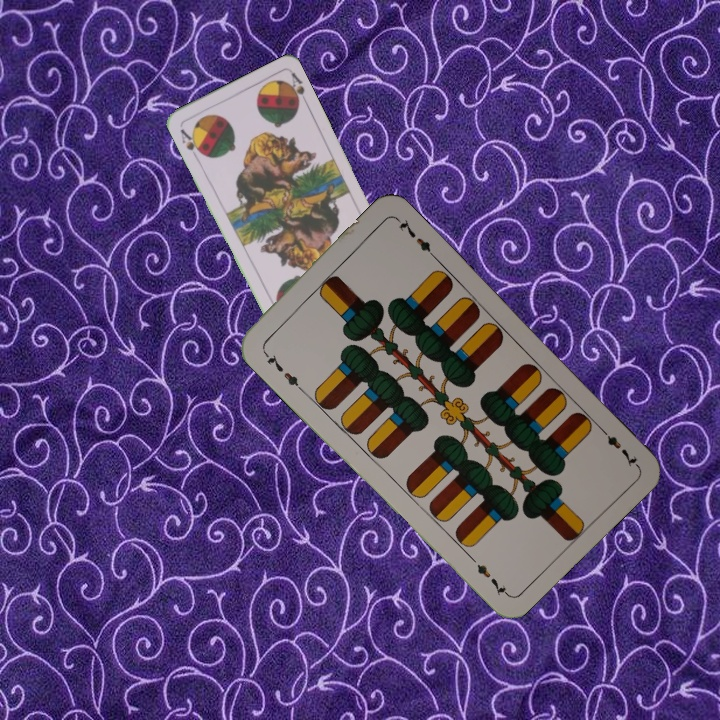E7: (594, 422, 640, 470), (258, 346, 304, 392)
SA: (176, 125, 206, 158)
